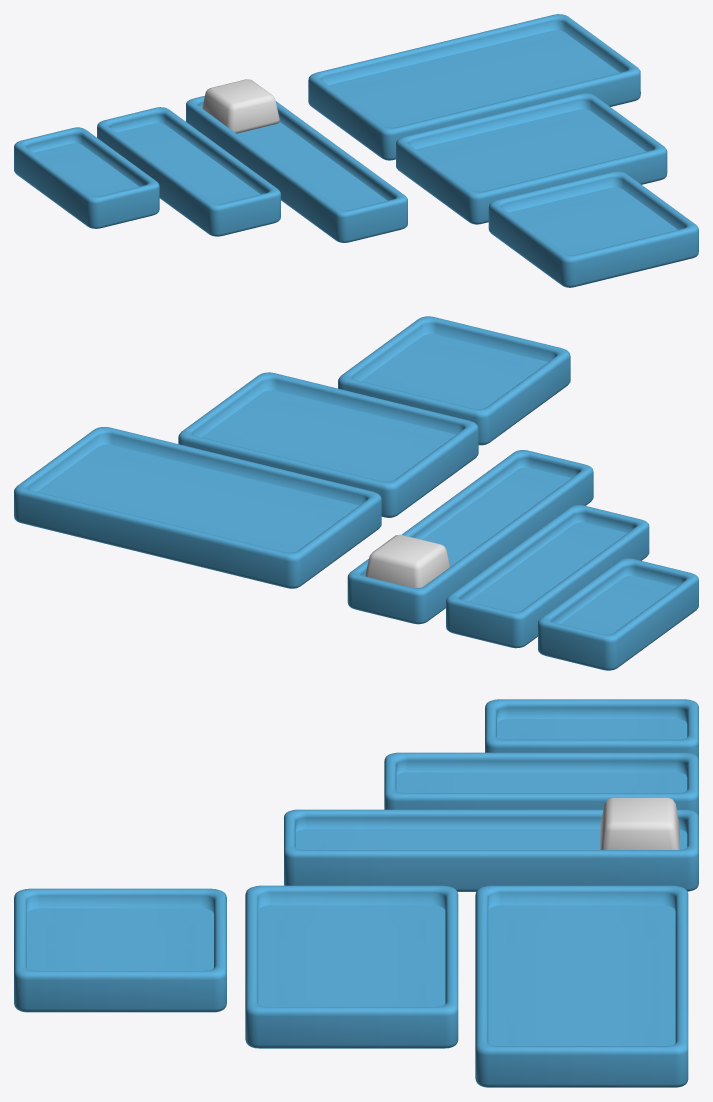
The model's file is Feature_Candy.fbx.
3 renders of one model, top to bottom at view 1: azimuth 30°, elevation 25°; view 2: azimuth 150°, elevation 25°; view 3: azimuth 270°, elevation 25°, orthographic. The views are drawn at different scales.
Parts seen in each view (by area): view 1: CandyTray_Base_1, CandyTray_Base_6, CandyTray_Base_7, CandyTray_Base_2, CandyTray_Base_5, CandyTray_Base_4, Candy_Block; view 2: CandyTray_Base_1, CandyTray_Base_6, CandyTray_Base_7, CandyTray_Base_2, CandyTray_Base_5, CandyTray_Base_4, Candy_Block; view 3: CandyTray_Base_1, CandyTray_Base_6, CandyTray_Base_2, CandyTray_Base_7, CandyTray_Base_5, CandyTray_Base_4, Candy_Block.
Boxes of the visible parts, x1,y1,x2,y2 form: CandyTray_Base_1: (308, 14, 640, 160); CandyTray_Base_6: (396, 93, 667, 224); CandyTray_Base_7: (488, 171, 698, 287); CandyTray_Base_2: (186, 96, 407, 242); CandyTray_Base_5: (97, 107, 280, 236); CandyTray_Base_4: (14, 127, 159, 228); Candy_Block: (202, 79, 279, 133); CandyTray_Base_1: (14, 427, 381, 588); CandyTray_Base_6: (178, 372, 478, 517); CandyTray_Base_7: (338, 316, 570, 445); CandyTray_Base_2: (347, 450, 593, 624); CandyTray_Base_5: (446, 505, 649, 648); CandyTray_Base_4: (538, 558, 698, 670); Candy_Block: (365, 534, 450, 587); CandyTray_Base_1: (475, 885, 688, 1087); CandyTray_Base_6: (245, 885, 458, 1048); CandyTray_Base_2: (284, 809, 698, 891); CandyTray_Base_7: (14, 888, 226, 1012); CandyTray_Base_5: (384, 752, 698, 816); CandyTray_Base_4: (485, 699, 698, 759); Candy_Block: (600, 797, 679, 849).
Bounding box in the file's own units: 7.26 × 0.5888 × 5.97.
